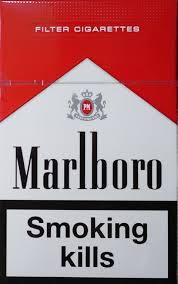marlboro: (2, 2, 177, 282)
